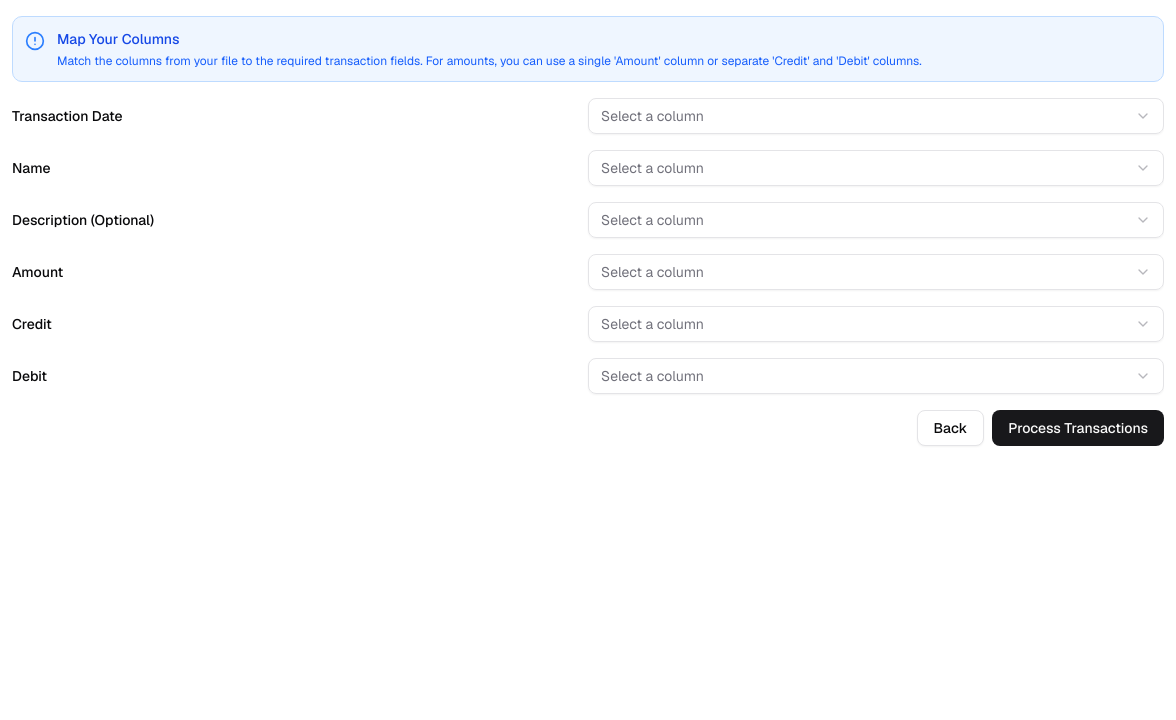
Scenario: MapColumns › requires an amount or a credit and debit pair
Click the dropdown labelled "Select a column" in the row of "Transaction Date" at (652, 116), box [588,98,1164,134]
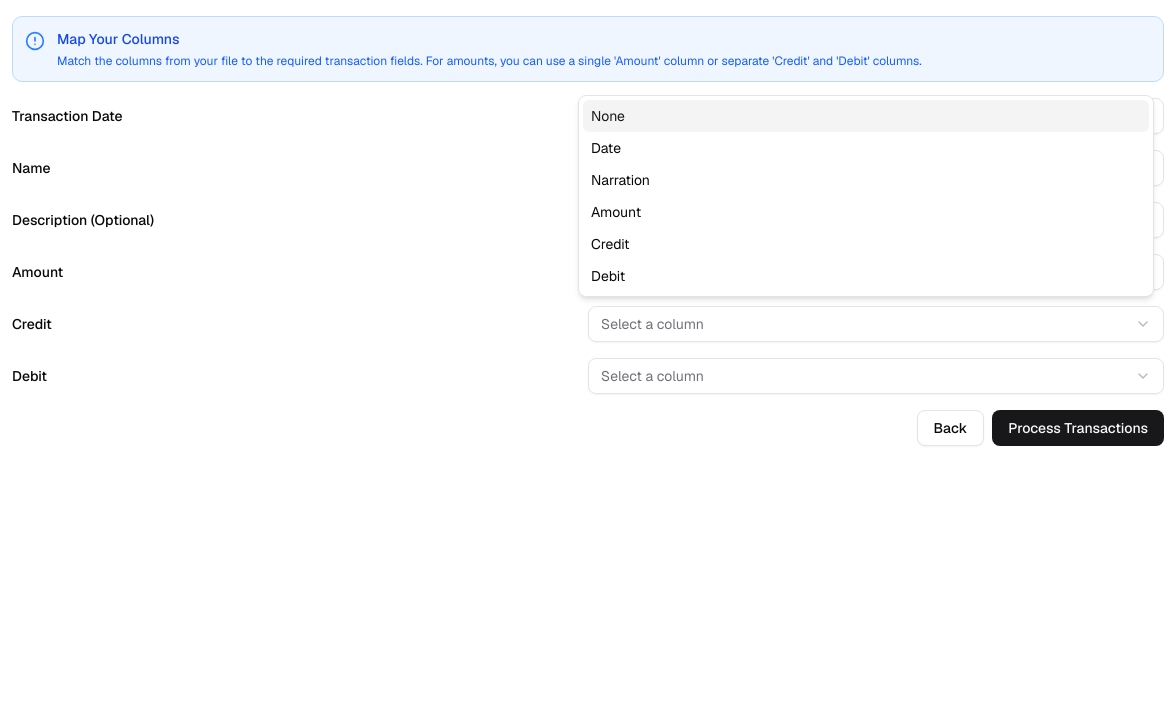
Click the option "Date" at (606, 148), box [591,139,621,157]
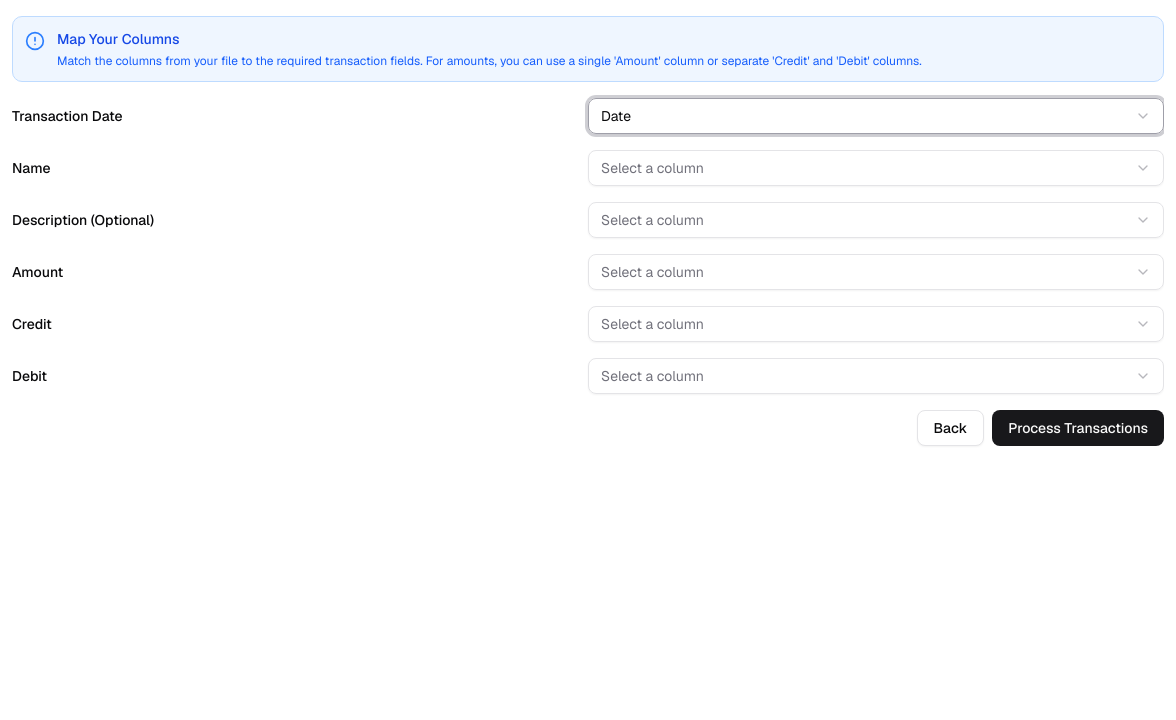
Click the dropdown labelled "Select a column" in the row of "Name" at (652, 168), box [588,150,1164,186]
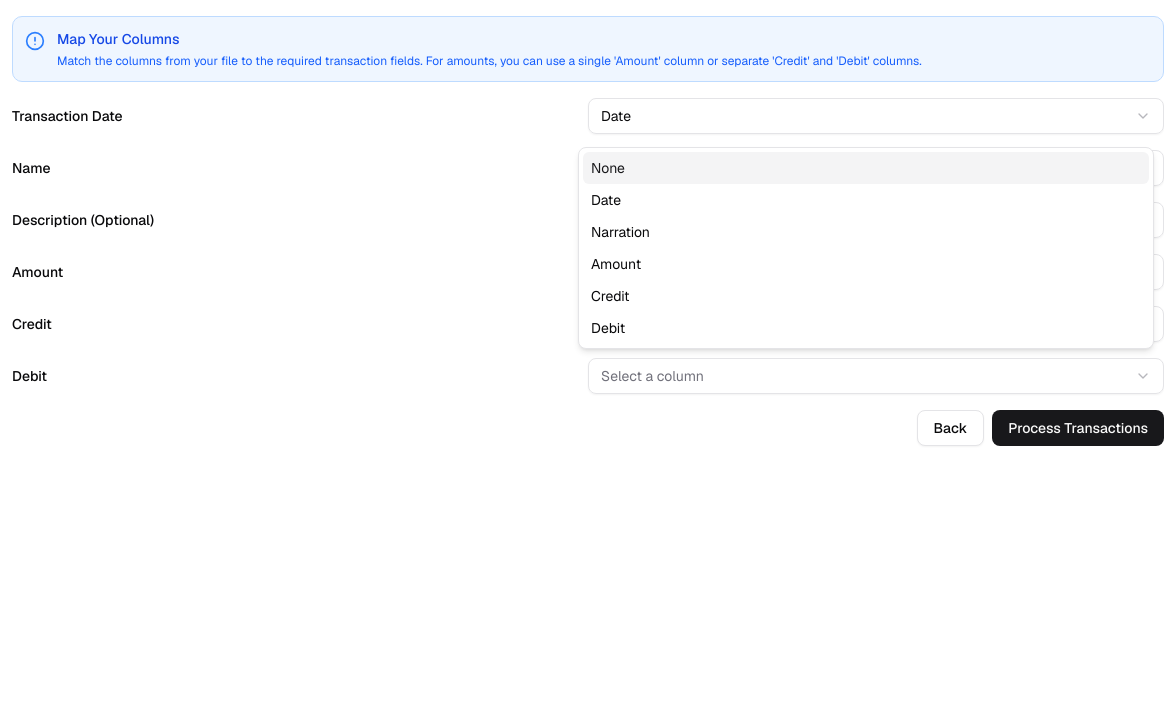
Click the option "Narration" at (620, 232), box [591,223,650,241]
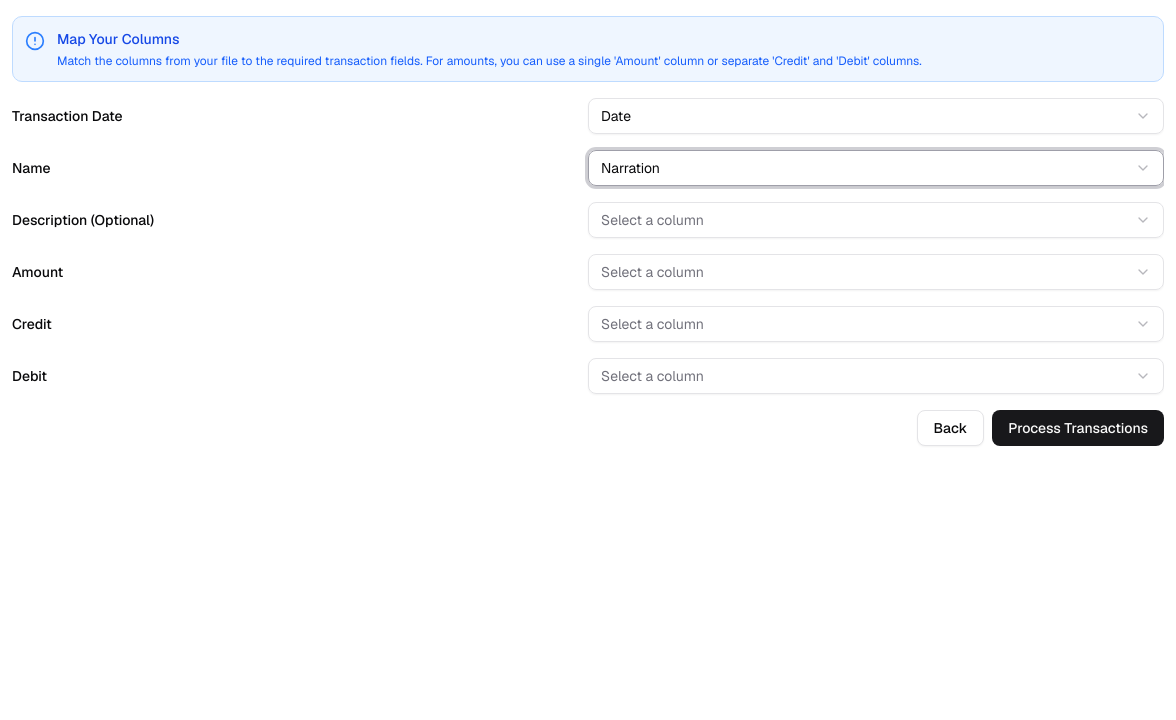
Click the button "Process Transactions" at (1078, 428), box [992,410,1164,446]
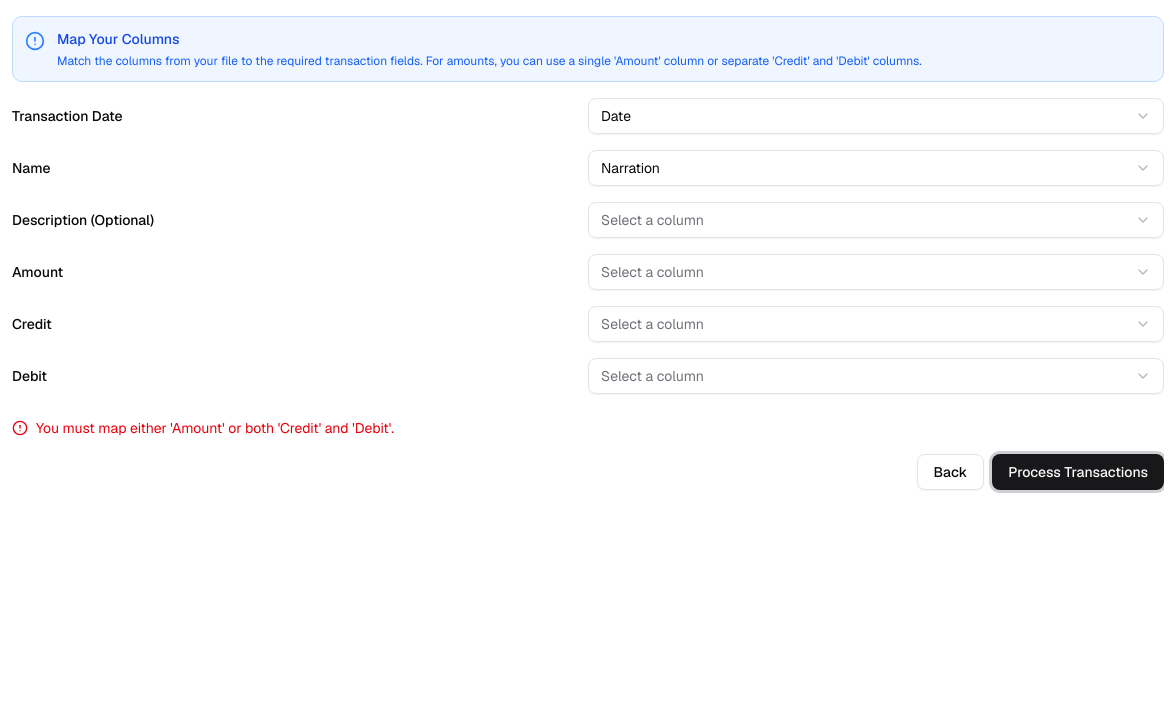
Expected: the text "You must map either 'Amount' or both 'Credit' and 'Debit'." is shown, [36,418,394,438]
